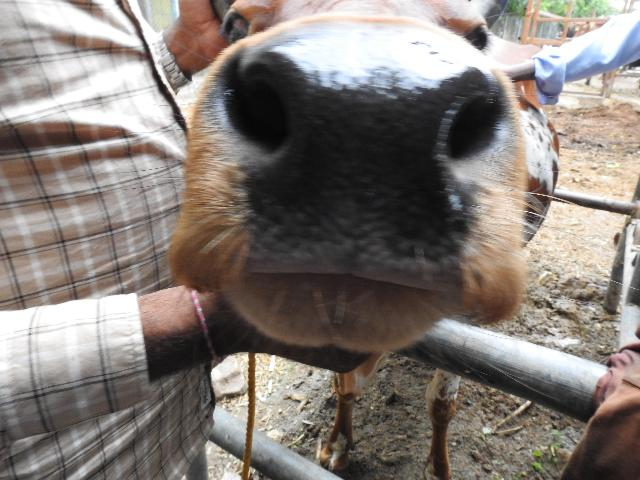Muzzle: (257, 47, 459, 282)
